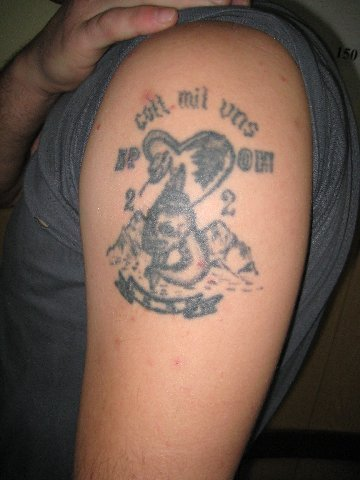tatu7_zmeya: (131, 124, 238, 290)
